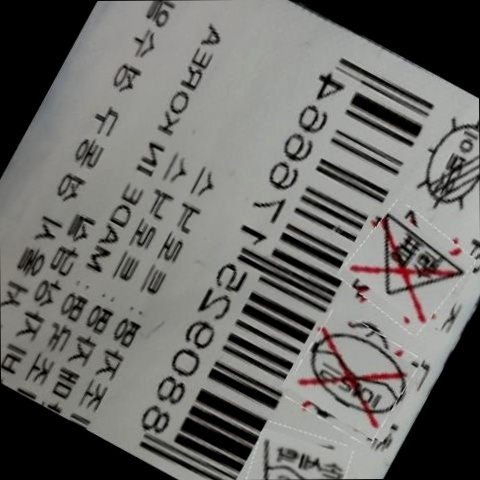DN_dry_clean: (309, 325, 405, 424)
hand_wash: (262, 432, 348, 480)
line_dry_in_shade: (420, 117, 479, 208)
non_chlorine_bleach: (368, 216, 462, 310)
